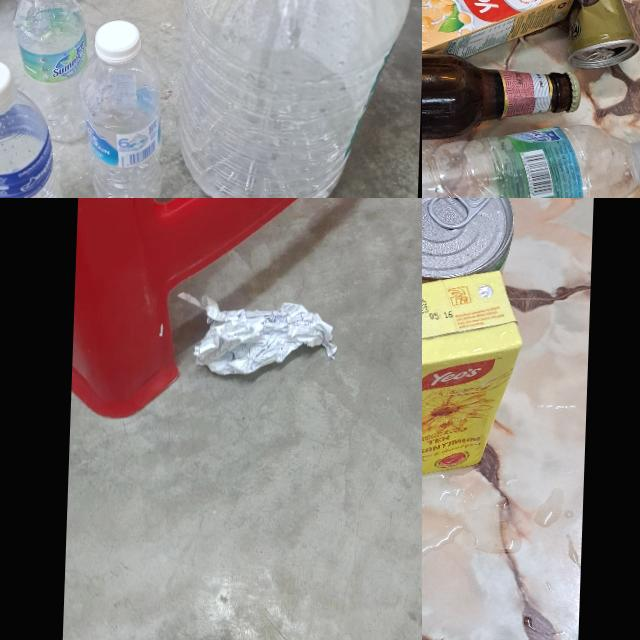aba de lata: (424, 198, 503, 232), (584, 50, 614, 61)
caixinha: (422, 265, 520, 486), (422, 0, 575, 61)
garrafa de vidro: (422, 45, 583, 157)
garrafa plástica: (176, 0, 411, 198), (422, 117, 640, 198), (76, 50, 169, 198), (10, 0, 99, 144), (0, 97, 72, 198)
lata: (422, 198, 517, 351), (521, 0, 640, 70)
papel: (180, 287, 348, 384)
tampa plástica: (90, 19, 142, 64), (0, 58, 15, 113)
